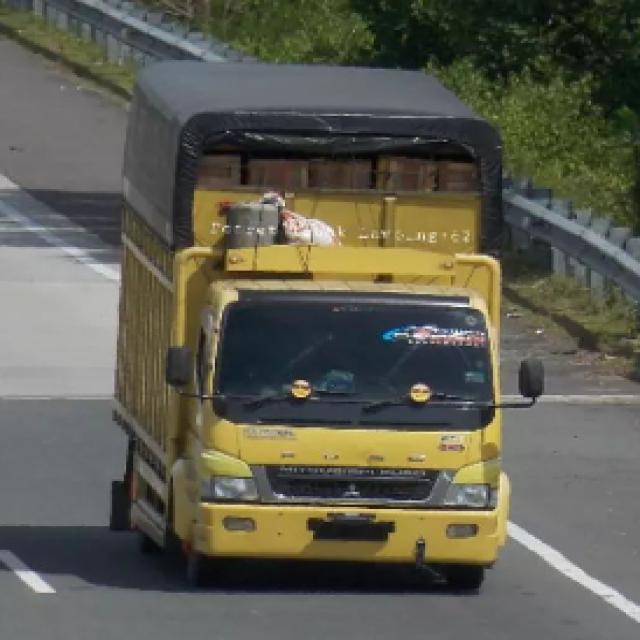truck: (101, 52, 560, 589)
